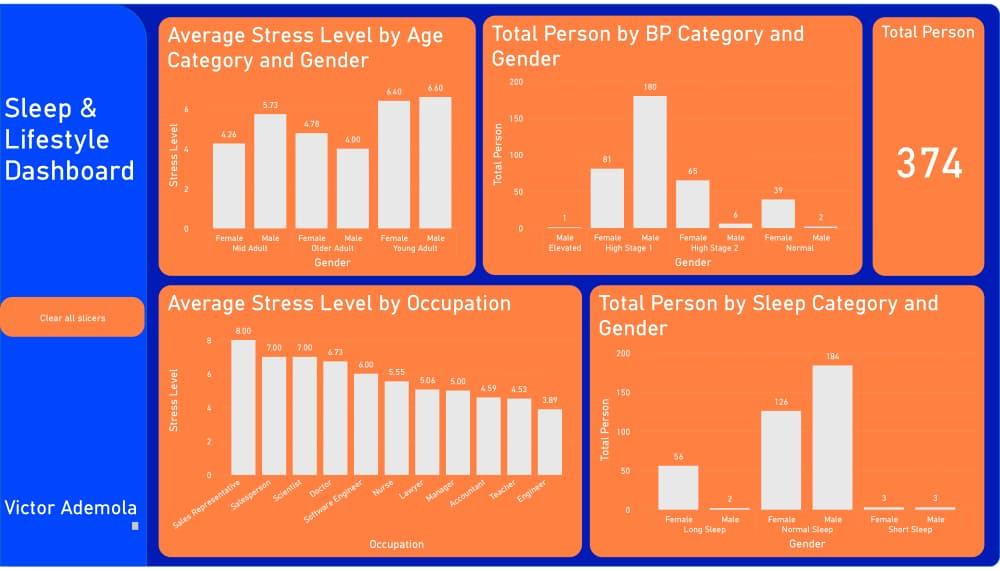

The dashboard page shown, as its layout file describes it:
{"tool":"powerbi","page":{"name":"Page 1","canvas":[1280,720],"ordinal":0},"visuals":[{"type":"shape","box":[0,0,1280,720.6],"z":0},{"type":"columnChart","title":"Average Stress Level by Occupation","fields":{"Category":["Sleep_health_and_lifestyle_dataset[1].Occupation"],"Y":["Sleep_health_and_lifestyle_dataset[1].Average Stress Level"]},"box":[203.1,360,541.5,347.7],"z":1000},{"type":"columnChart","title":"Average Stress Level by Age Category and Gender","fields":{"Category":["Sleep_health_and_lifestyle_dataset[1].Age Category","Sleep_health_and_lifestyle_dataset[1].Gender"],"Y":["Sleep_health_and_lifestyle_dataset[1].Average Stress Level"]},"box":[203.1,16.9,406.2,330.8],"z":2000},{"type":"columnChart","fields":{"Category":["Sleep_health_and_lifestyle_dataset[1].BP Category","Sleep_health_and_lifestyle_dataset[1].Gender"],"Y":["Sleep_health_and_lifestyle_dataset[1].Total Person"]},"box":[618.5,15.4,486.2,332.3],"z":3000},{"type":"columnChart","fields":{"Category":["Sleep_health_and_lifestyle_dataset[1].Sleep Category","Sleep_health_and_lifestyle_dataset[1].Gender"],"Y":["Sleep_health_and_lifestyle_dataset[1].Total Person"]},"box":[755.4,360,504.6,347.7],"z":4000},{"type":"card","title":"Total Person","fields":{"Values":["Sleep_health_and_lifestyle_dataset[1].Total Person"]},"box":[1116.9,16.9,143.1,330.8],"z":5000},{"type":"shape","box":[0,0,188.1,720.6],"z":6000},{"type":"textbox","title":"Sleep & Lifestyle Dashboard","box":[0,112.3,187.7,235.4],"z":7000},{"type":"textbox","title":"Victor Ademola","box":[0,629.2,181.5,49.2],"z":8000},{"type":"actionButton","box":[0,375.4,184.6,50.8],"z":9000}]}

Visuals, with their boxes in screenshot pixels (x1, y1, x2, y2), scaled from the page's 1280x720 canvas onto the 1000x571 screenshot:
shape: box(0, 0, 999, 570)
"Average Stress Level by Occupation" columnChart: box(159, 286, 582, 561)
"Average Stress Level by Age Category and Gender" columnChart: box(159, 13, 476, 276)
columnChart - Sleep_health_and_lifestyle_dataset[1].BP Category x Sleep_health_and_lifestyle_dataset[1].Gender: box(483, 12, 863, 276)
columnChart - Sleep_health_and_lifestyle_dataset[1].Sleep Category x Sleep_health_and_lifestyle_dataset[1].Gender: box(590, 286, 984, 561)
"Total Person" card: box(873, 13, 984, 276)
shape: box(0, 0, 147, 570)
"Sleep & Lifestyle Dashboard" textbox: box(0, 89, 147, 276)
"Victor Ademola" textbox: box(0, 499, 142, 538)
actionButton: box(0, 298, 144, 338)
